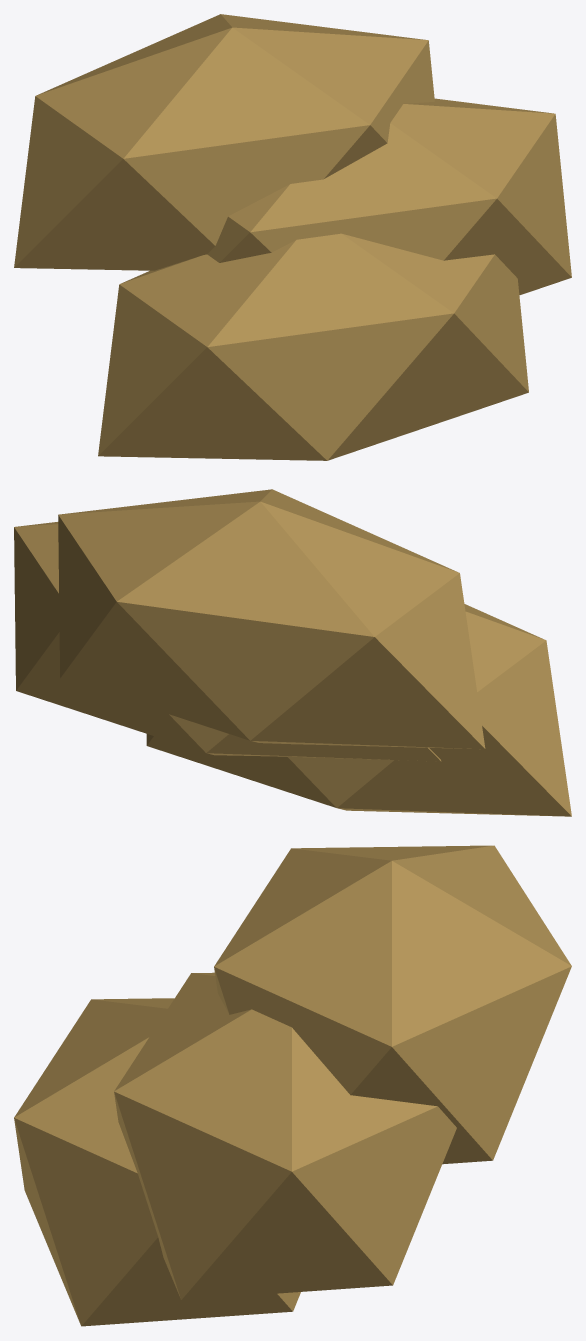
The model's file is w3d_item_wild_grain_m.glb.
3 renders of one model, top to bottom at view 1: azimuth 30°, elevation 25°; view 2: azimuth 150°, elevation 25°; view 3: azimuth 270°, elevation 25°, orthographic. The views are drawn at different scales.
Parts seen in each view (by area): view 1: item_019_wild_grain_m; view 2: item_019_wild_grain_m; view 3: item_019_wild_grain_m.
Part boxes in pixels (x1,y1,x2,y2): item_019_wild_grain_m: [14, 14, 571, 460]; item_019_wild_grain_m: [14, 489, 571, 816]; item_019_wild_grain_m: [14, 845, 571, 1326].
Bounding box in the file's own units: 0.4122 × 0.285 × 0.3348.
